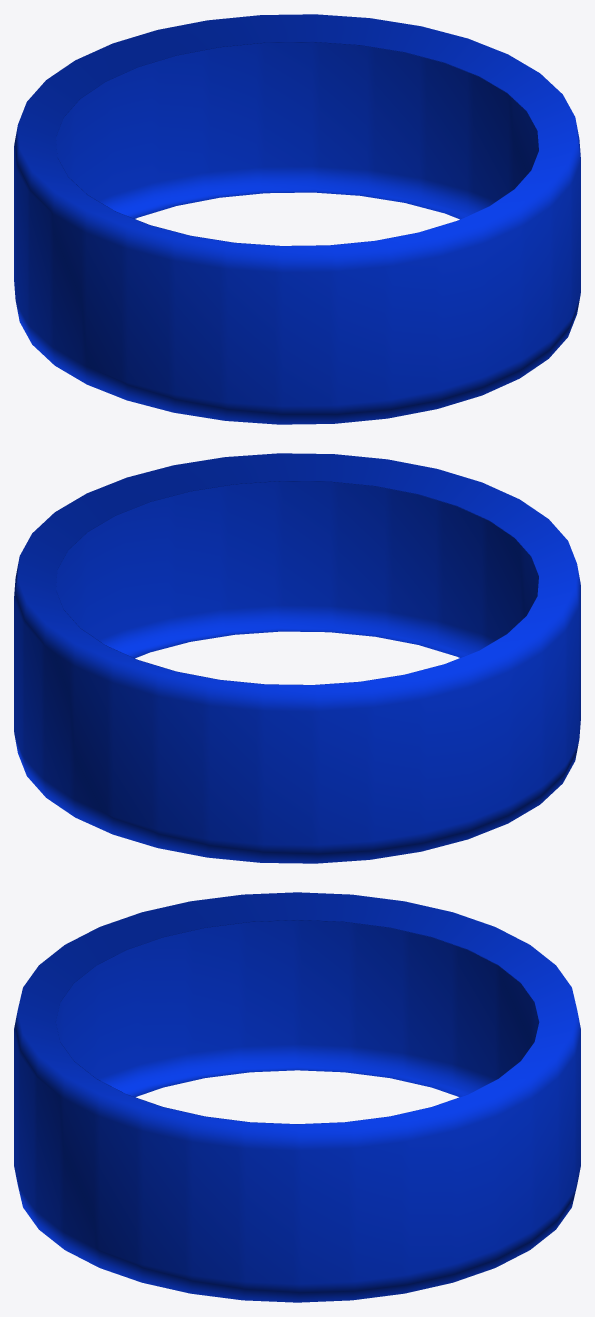
Rendered from ring.fbx.
3 renders of one model, top to bottom at view 1: azimuth 30°, elevation 25°; view 2: azimuth 150°, elevation 25°; view 3: azimuth 270°, elevation 25°, orthographic.
Visible parts, largest first — view 1: ring; view 2: ring; view 3: ring.
Boxes of the visible parts, x1,y1,x2,y2 form: ring: (14, 14, 580, 424); ring: (14, 453, 580, 863); ring: (14, 892, 580, 1302).
Bounding box in the file's own units: 39.77 × 13.45 × 39.77.
